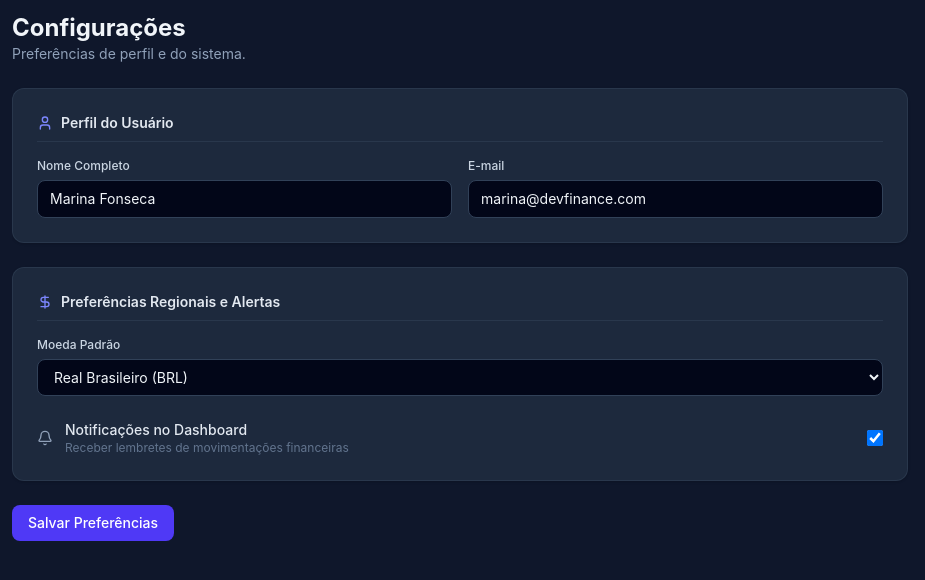
Scenario: Settings (Conformidade com Spec RF05) › deve exibir mensagem de erro quando campos obrigatórios estiverem vazios
Step 1. Clear the field labelled "Nome Completo" → [244, 199], box [37,180,452,218]
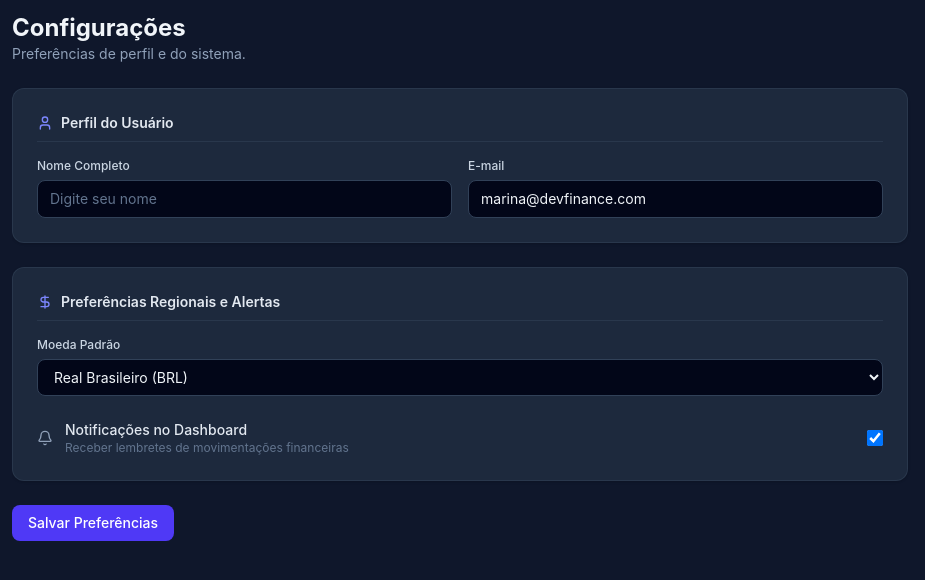
Step 2. Click the button "Salvar Preferências" → [93, 523], box [12,505,174,541]
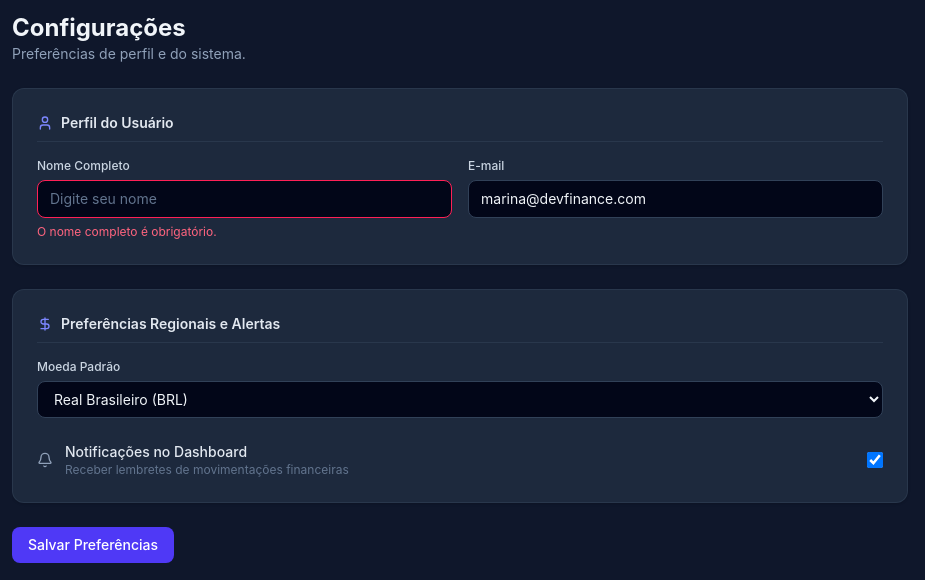
Expected: the text "O nome completo é obrigatório." is shown, [37,224,217,239]
